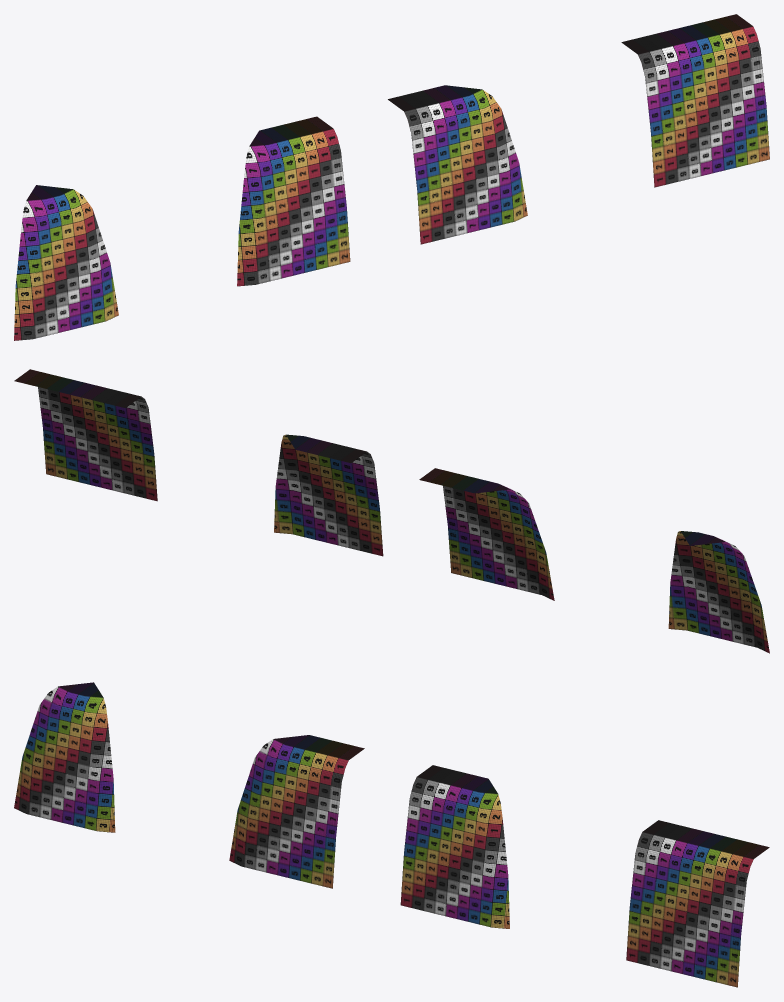
File: WALLS.FBX
3 views of the same model, one above another, from view 1: azimuth 30°, elevation 25°; view 2: azimuth 150°, elevation 25°; view 3: azimuth 330°, elevation 25° (orthographic). The views are drawn at different scales.
Parts seen in each view (by area): view 1: WALL11, WALL01, WALL10, WALL00; view 2: WALL11, WALL10, WALL01, WALL00; view 3: WALL11, WALL10, WALL01, WALL00.
Boxes of the visible parts, box(x1,y1,x2,y2) form: WALL11: box(621, 14, 769, 187); WALL01: box(237, 116, 350, 286); WALL10: box(388, 85, 527, 244); WALL00: box(14, 185, 118, 340); WALL11: box(14, 369, 157, 501); WALL10: box(274, 434, 383, 556); WALL01: box(419, 468, 554, 600); WALL00: box(668, 531, 769, 653); WALL11: box(626, 820, 769, 987); WALL10: box(400, 765, 509, 928); WALL01: box(229, 735, 364, 888); WALL00: box(14, 682, 115, 832).
Bounding box in the file's own units: 257 × 19.69 × 39.37.
